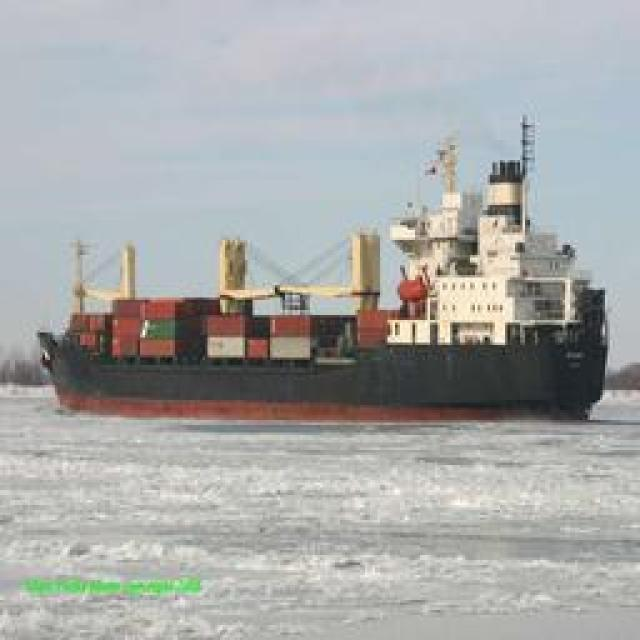ship2: (39, 116, 611, 422)
